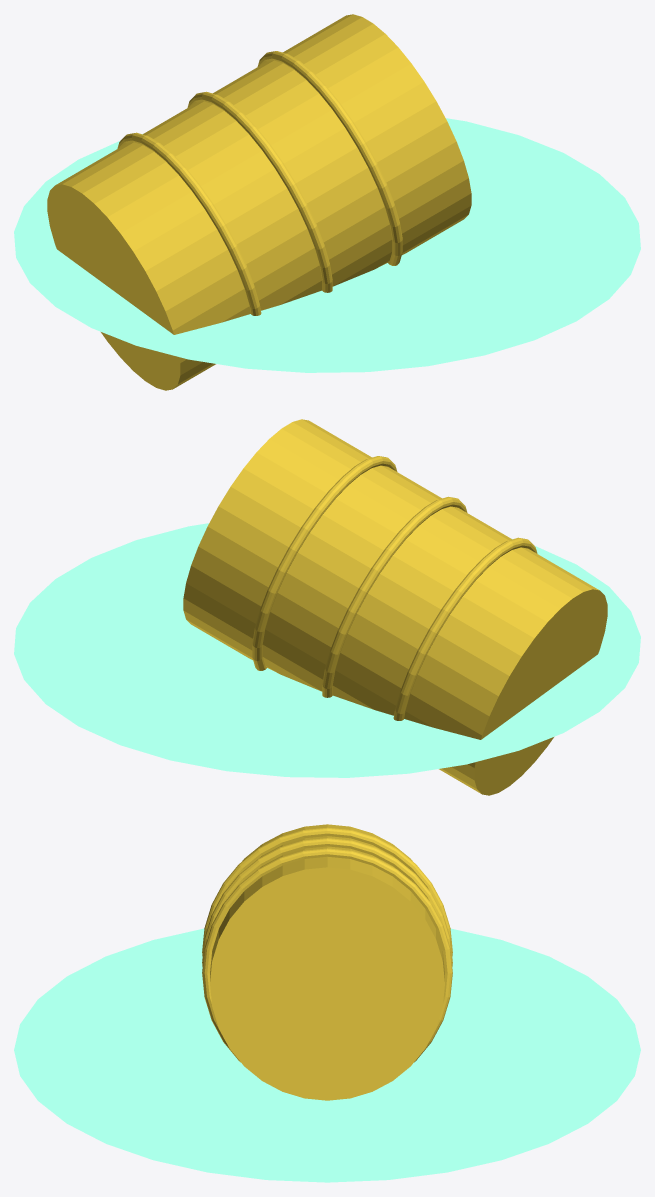
The model's file is chemical_waste.glb.
3 views of the same model, one above another, from view 1: azimuth 30°, elevation 25°; view 2: azimuth 150°, elevation 25°; view 3: azimuth 270°, elevation 25° (orthographic).
Parts seen in each view (by area): view 1: ChemicalDrum; view 2: ChemicalDrum; view 3: ChemicalDrum.
Boxes of the visible parts, x1,y1,x2,y2 form: ChemicalDrum: (14,14,640,390); ChemicalDrum: (14,419,640,795); ChemicalDrum: (14,824,640,1182).
Bounding box in the file's own units: 2.4 × 1.27 × 2.4.
